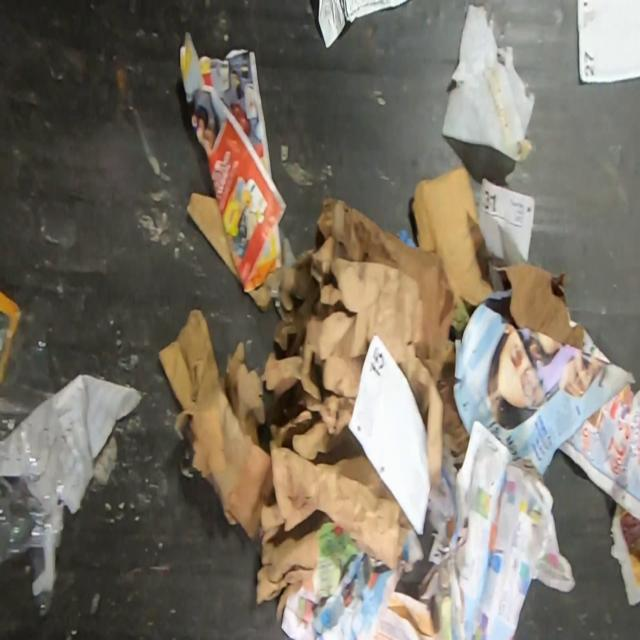cardboard: (154, 236, 443, 570), (316, 197, 468, 454), (412, 162, 493, 308), (494, 259, 585, 348), (185, 191, 238, 281)
soft_plastic: (0, 299, 76, 619)
